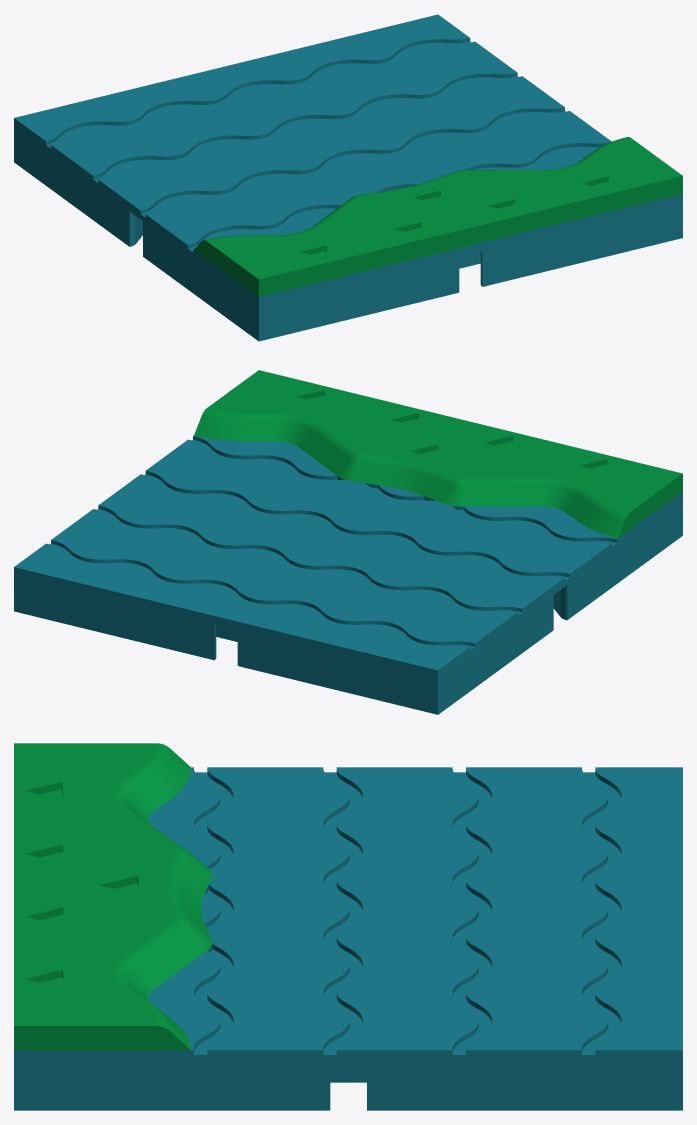
File: 5x5 Grass On Water Straight.obj
3 renders of one model, top to bottom at view 1: azimuth 30°, elevation 25°; view 2: azimuth 150°, elevation 25°; view 3: azimuth 270°, elevation 25°, orthographic. The views are drawn at different scales.
Visible parts, largest first — view 1: Körper1:1, Körper1; view 2: Körper1:1, Körper1; view 3: Körper1:1, Körper1.
Part boxes in pixels (x1=…): Körper1:1: x1=14, y1=14, x2=682, y2=341; Körper1: x1=194, y1=137, x2=682, y2=296; Körper1:1: x1=14, y1=435, x2=682, y2=714; Körper1: x1=194, y1=370, x2=682, y2=538; Körper1:1: x1=14, y1=767, x2=682, y2=1110; Körper1: x1=14, y1=743, x2=212, y2=1050.
Bounding box in the file's own units: 50 × 7 × 50.
